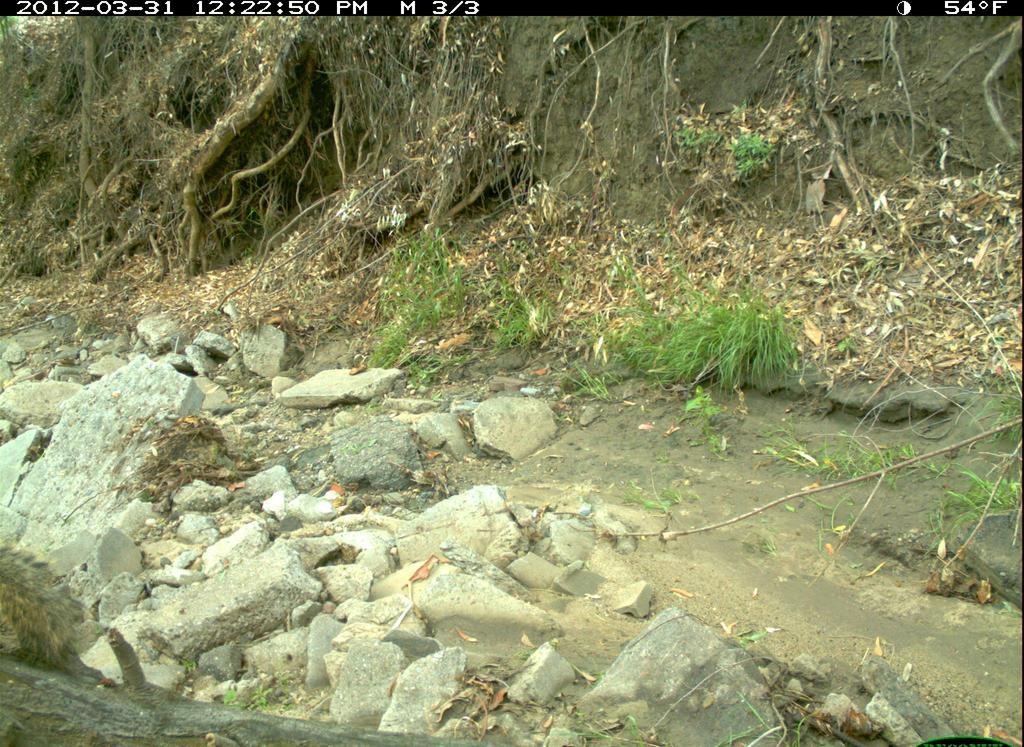squirrel: (2, 532, 94, 684)
